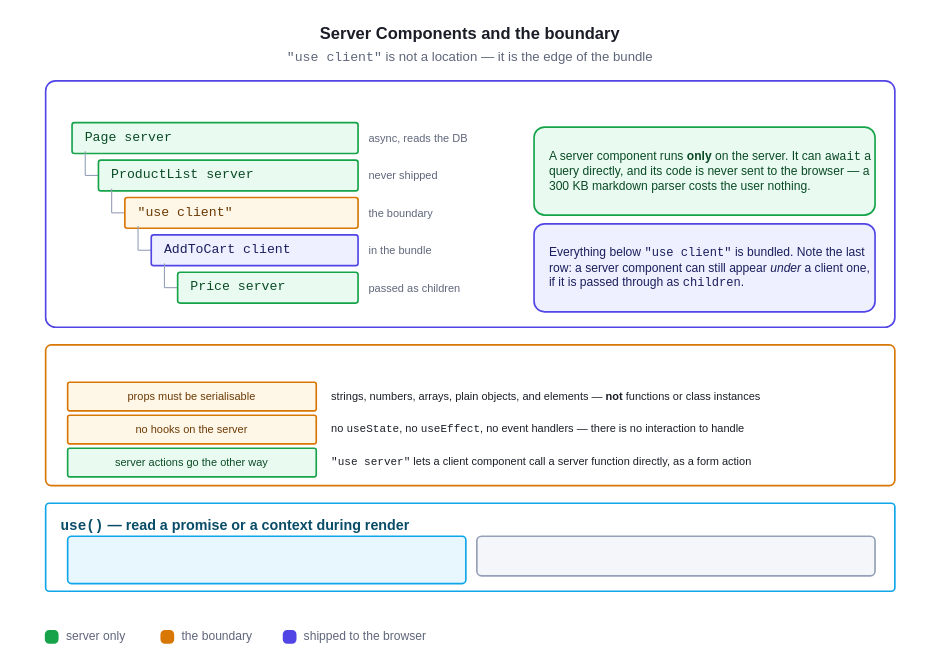
The diagram is 939 pixels wide and 664 high, and some of its shapes have lost their labels. Here are the shapes that lost their labels. From the top down, the box of each, then its label:
(44, 80, 895, 328): One tree, two runtimes
(44, 344, 895, 486): What crosses the boundary
(66, 535, 466, 584): const user = use(userPromise); // suspends until it resolves
(476, 535, 875, 576): Unlike every other hook, use() may be called conditionally.
